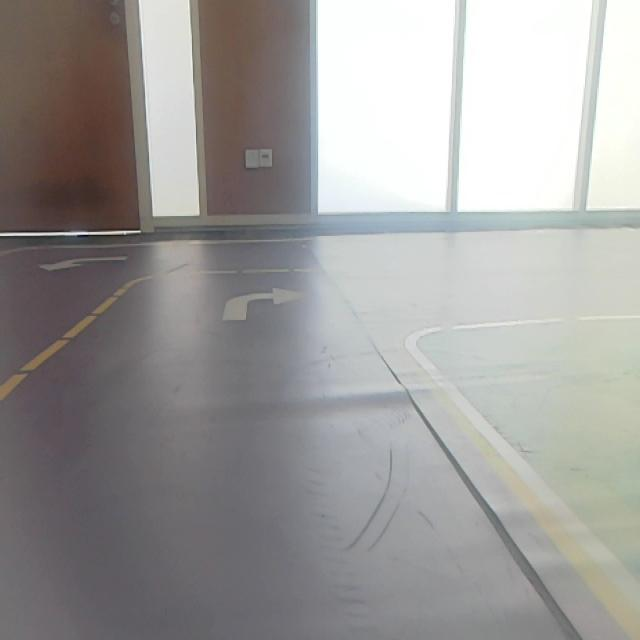left_lane: (1, 278, 138, 403)
right_lane: (406, 340, 640, 640)
